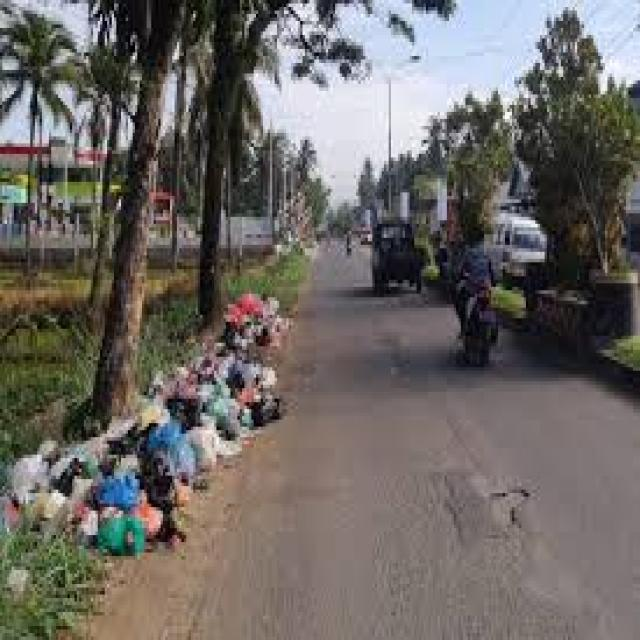trash: (31, 288, 348, 572)
